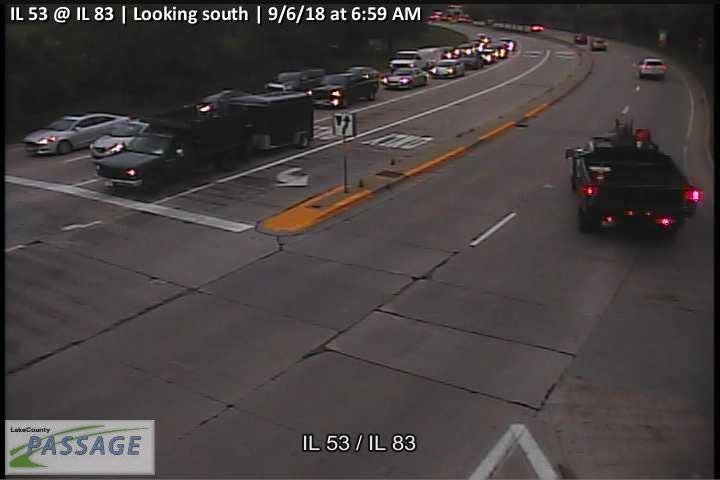SUV: (389, 51, 424, 74)
Sedan: (22, 112, 130, 156), (88, 120, 149, 161), (308, 73, 378, 108), (380, 67, 427, 88), (429, 59, 465, 78), (639, 58, 666, 80), (590, 37, 607, 51), (466, 56, 484, 69)
Truck: (564, 138, 705, 236), (95, 113, 251, 190)
